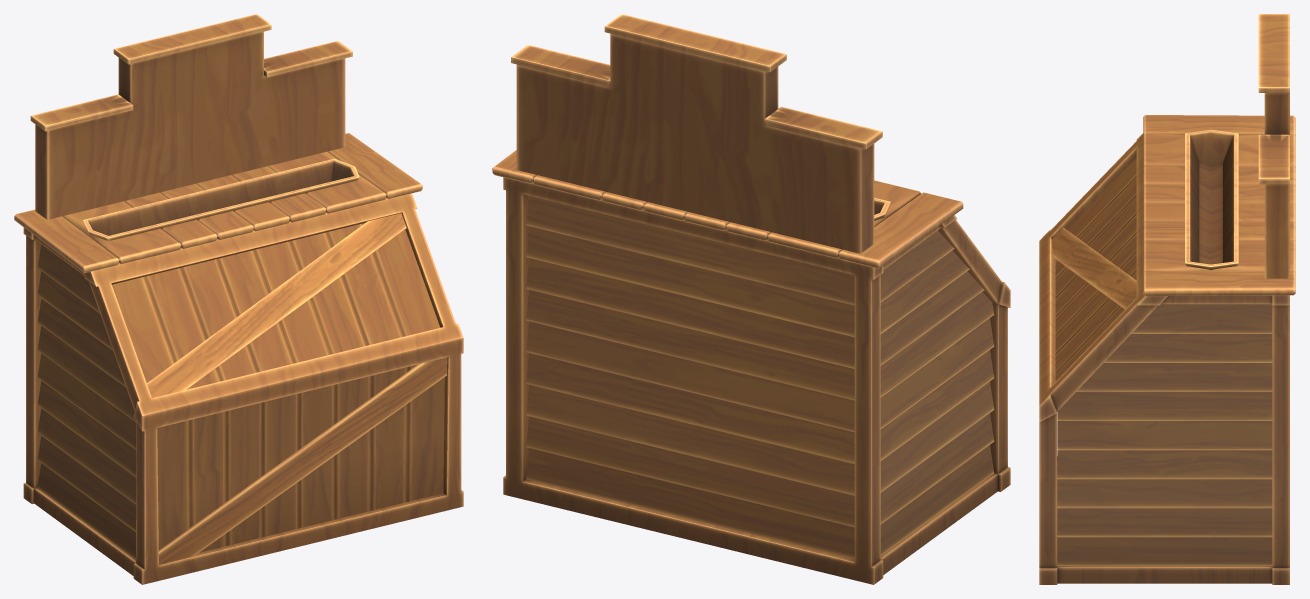
The model's file is obj_terminal.gltf.
The picture shows the model from 3 angles, left to right: view 1: azimuth 30°, elevation 25°; view 2: azimuth 150°, elevation 25°; view 3: azimuth 270°, elevation 25°; orthographic projection. The views are drawn at different scales.
Visible parts, largest first — view 1: obj_terminal; view 2: obj_terminal; view 3: obj_terminal.
Part boxes in pixels (<box>): obj_terminal: <box>14,14,463,584</box>; obj_terminal: <box>492,14,1010,584</box>; obj_terminal: <box>1039,14,1295,584</box>.
Size of what is drawn, in the model's own units: 1.43 by 1.72 by 0.882.
Materials: 1 (1 with a texture image).
